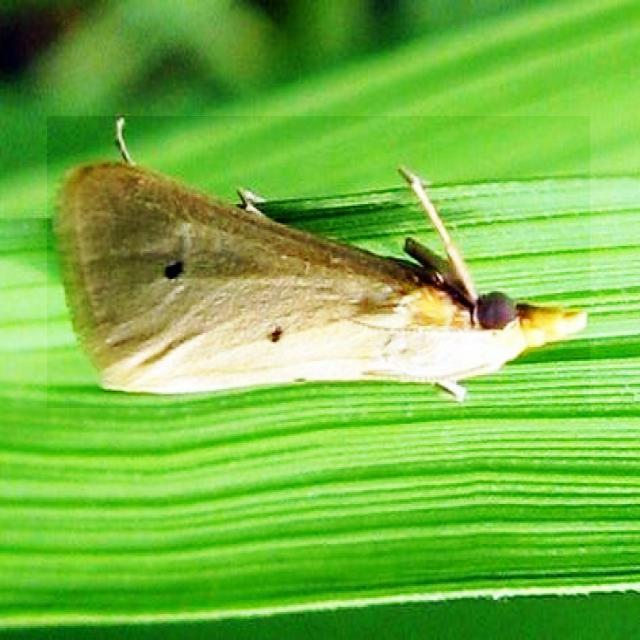stem-borer: (47, 116, 590, 408)
